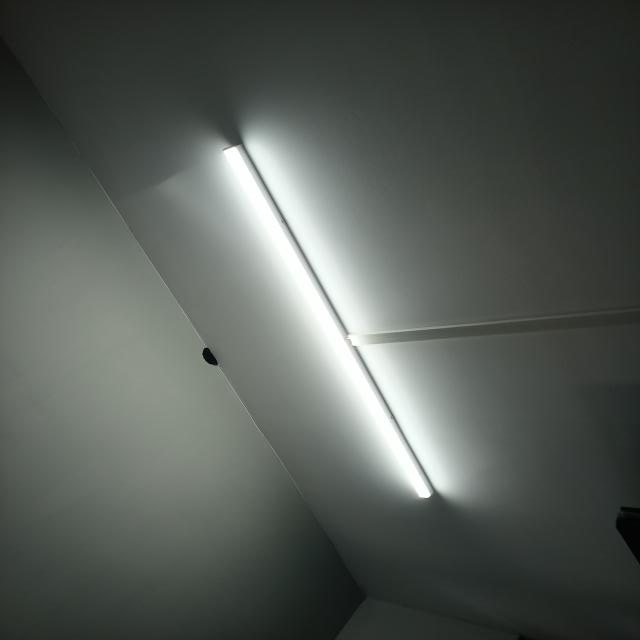fluorescent tube: (215, 131, 443, 504)
